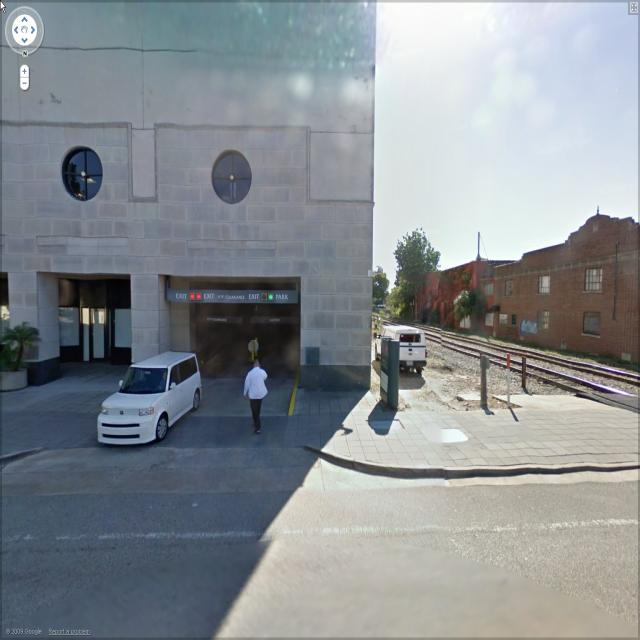b_1: (1, 5, 376, 378), (502, 204, 640, 374)
